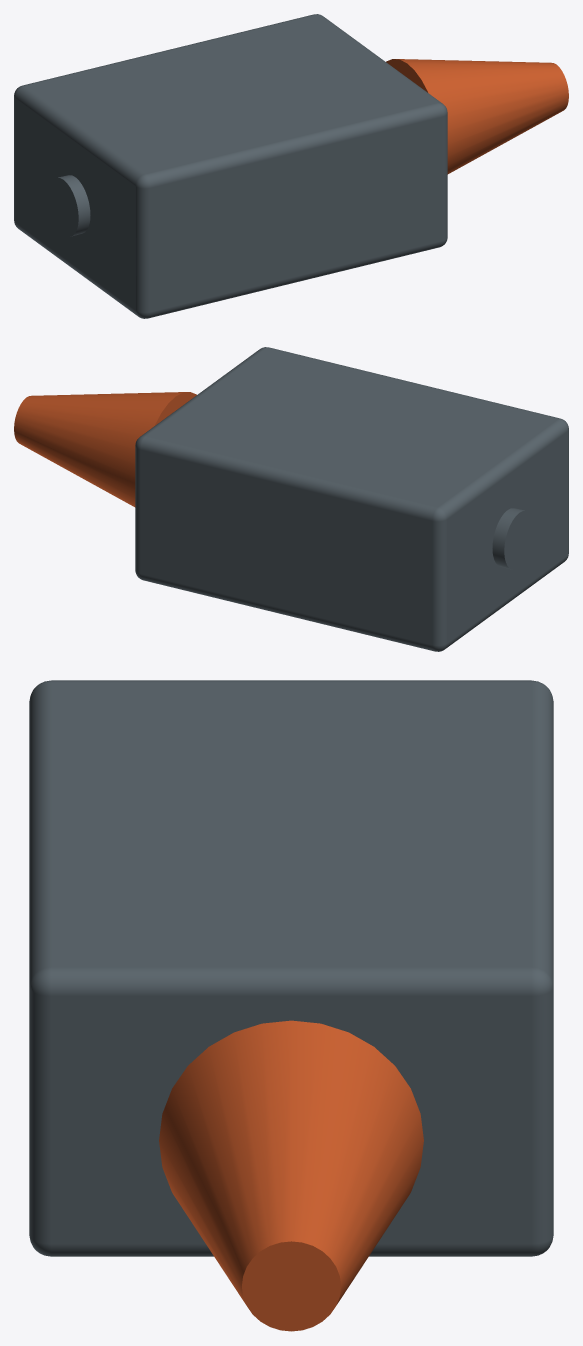
File: shot.glb
3 views of the same model, one above another, from view 1: azimuth 30°, elevation 25°; view 2: azimuth 150°, elevation 25°; view 3: azimuth 270°, elevation 25° (orthographic). The views are drawn at different scales.
Bounding box in the file's own units: 4.12 × 1.15 × 1.9.
